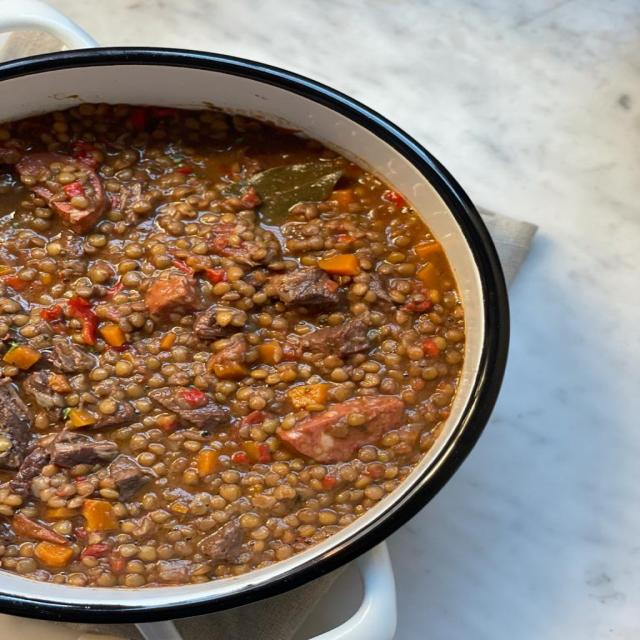lentejas: (5, 90, 488, 609)
